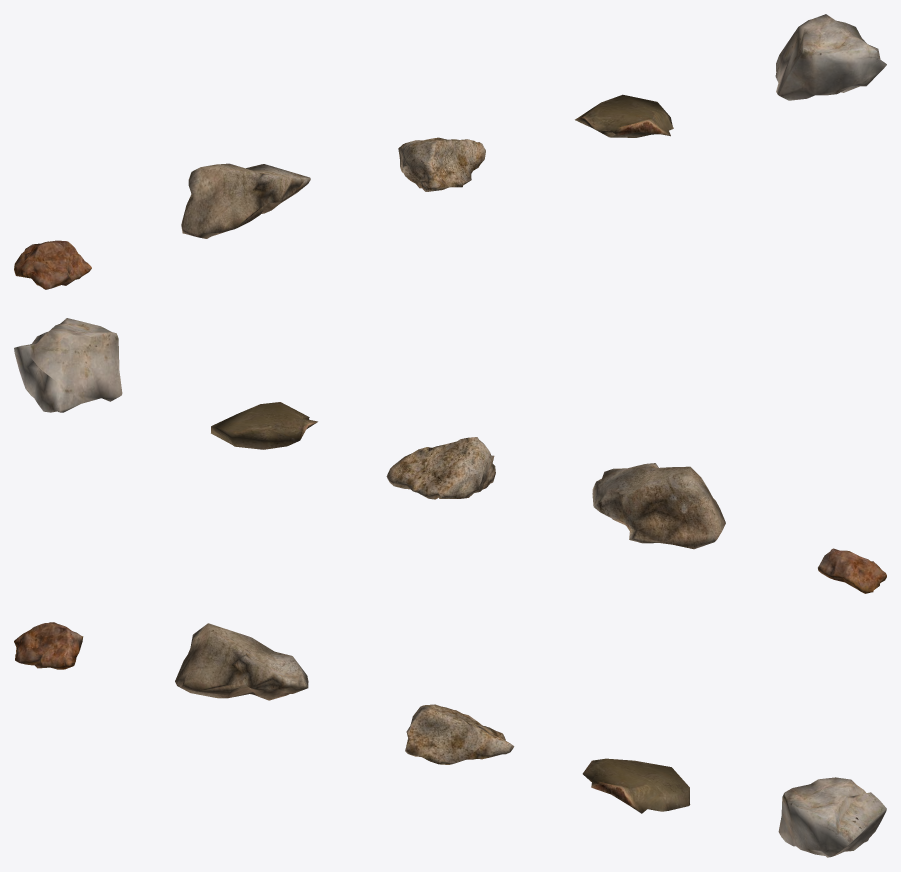
Rendered from namaqualand_stones_01.lod.glb.
The picture shows the model from 3 angles, top to bottom: view 1: azimuth 30°, elevation 25°; view 2: azimuth 150°, elevation 25°; view 3: azimuth 330°, elevation 25°; orthographic projection.
Visible parts, largest first — view 1: namaqualand_stones_01_e, namaqualand_stones_01_b, namaqualand_stones_01_c, namaqualand_stones_01_d, namaqualand_stones_01_a; view 2: namaqualand_stones_01_b, namaqualand_stones_01_e, namaqualand_stones_01_c, namaqualand_stones_01_d, namaqualand_stones_01_a; view 3: namaqualand_stones_01_b, namaqualand_stones_01_e, namaqualand_stones_01_c, namaqualand_stones_01_d, namaqualand_stones_01_a.
Boxes of the visible parts, bbox=[...] form: namaqualand_stones_01_e: bbox=[775, 14, 886, 100]; namaqualand_stones_01_b: bbox=[181, 163, 310, 238]; namaqualand_stones_01_c: bbox=[398, 137, 485, 191]; namaqualand_stones_01_d: bbox=[575, 94, 673, 137]; namaqualand_stones_01_a: bbox=[14, 240, 91, 289]; namaqualand_stones_01_b: bbox=[592, 463, 725, 549]; namaqualand_stones_01_e: bbox=[14, 318, 122, 412]; namaqualand_stones_01_c: bbox=[386, 437, 495, 499]; namaqualand_stones_01_d: bbox=[211, 402, 317, 449]; namaqualand_stones_01_a: bbox=[818, 548, 886, 593]; namaqualand_stones_01_b: bbox=[175, 623, 308, 700]; namaqualand_stones_01_e: bbox=[778, 777, 886, 857]; namaqualand_stones_01_c: bbox=[405, 704, 514, 764]; namaqualand_stones_01_d: bbox=[582, 758, 690, 813]; namaqualand_stones_01_a: bbox=[14, 622, 83, 669].
Bounding box in the file's own units: 1.02 × 0.084 × 0.1116.
Materials: 1 (1 with a texture image).
